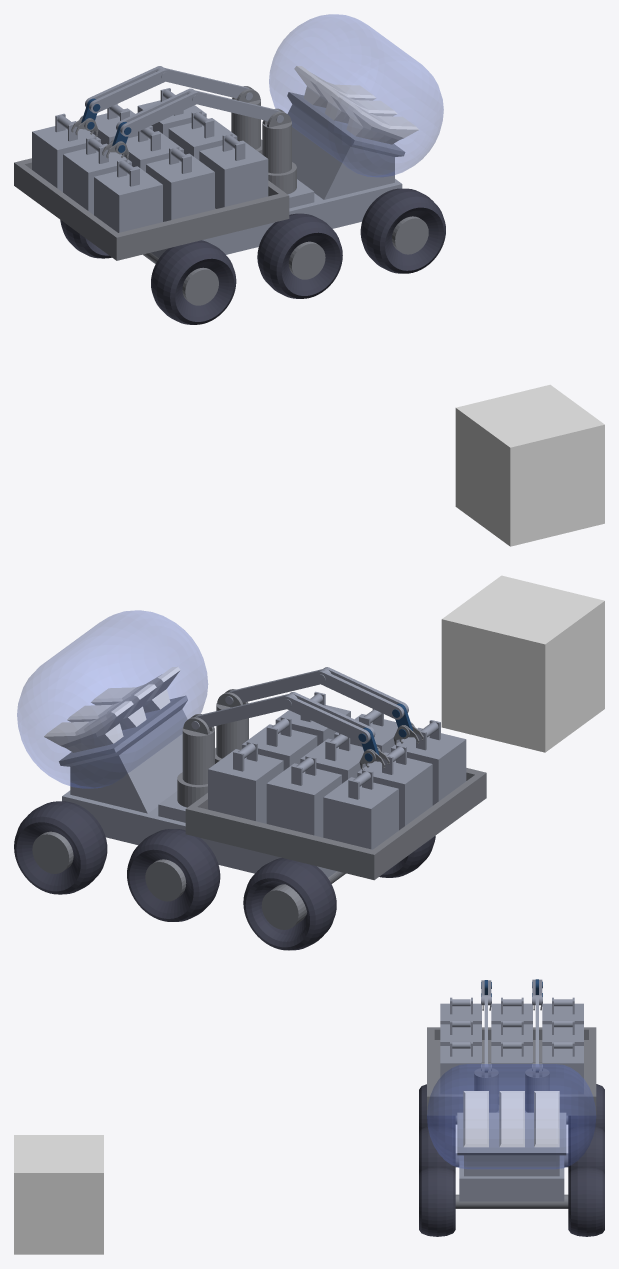
Rendered from SingleBuggy_02.glb.
3 views of the same model, one above another, from view 1: azimuth 30°, elevation 25°; view 2: azimuth 150°, elevation 25°; view 3: azimuth 270°, elevation 25° (orthographic). The views are drawn at different scales.
Visible parts, largest first — view 1: Sphere.002, Cube.013, Torus.001, Cube.003, Cube.001, Cube.012, Cube.006, Cube.009, Cube, Cube.011, Cube.010, Cylinder.001 (+12 smaller); view 2: Sphere.002, Cube.013, Torus.001, Cube.003, Cube.001, Cube.011, Cube.005, Cube.008, Cube, Cube.012, Cube.010, Cylinder (+13 smaller); view 3: Sphere.002, Cube.013, Torus.001, Cube.001, Cube.003, Cube, Cube.005, Cube.006, Cube.004, Cube.016, Cube.015, Cube.014 (+8 smaller).
Part boxes in pixels (x1,y1,x2,y2): Sphere.002: [269, 14, 443, 176]; Cube.013: [455, 384, 604, 546]; Torus.001: [60, 188, 445, 324]; Cube.003: [14, 158, 289, 260]; Cube.001: [287, 92, 405, 199]; Cube.012: [94, 159, 162, 232]; Cube.006: [199, 133, 268, 208]; Cube.009: [146, 146, 214, 221]; Cube: [151, 179, 402, 257]; Cube.011: [32, 113, 100, 192]; Cube.010: [63, 136, 131, 214]; Cylinder.001: [262, 108, 296, 194]; Sphere.002: [17, 610, 207, 788]; Cube.013: [441, 575, 604, 752]; Torus.001: [14, 801, 435, 950]; Cube.003: [185, 768, 486, 880]; Cube.001: [59, 695, 187, 813]; Cube.011: [323, 769, 398, 849]; Cube.005: [208, 741, 283, 823]; Cube.008: [266, 755, 341, 837]; Cube: [62, 790, 336, 877]; Cube.012: [391, 720, 466, 805]; Cube.010: [357, 744, 432, 830]; Cylinder: [177, 714, 214, 807]; Sphere.002: [427, 1064, 595, 1168]; Cube.013: [14, 1135, 103, 1254]; Torus.001: [419, 1084, 604, 1236]; Cube.001: [457, 1112, 566, 1176]; Cube.003: [427, 1027, 596, 1115]; Cube: [459, 1155, 564, 1201]; Cube.005: [542, 1040, 583, 1094]; Cube.006: [440, 1040, 481, 1094]; Cube.004: [491, 1040, 532, 1093]; Cube.016: [534, 1091, 559, 1147]; Cube.015: [499, 1091, 524, 1147]; Cube.014: [463, 1091, 488, 1147].
Size of the model in its own units: 0.3008 by 0.2103 by 0.5398.
